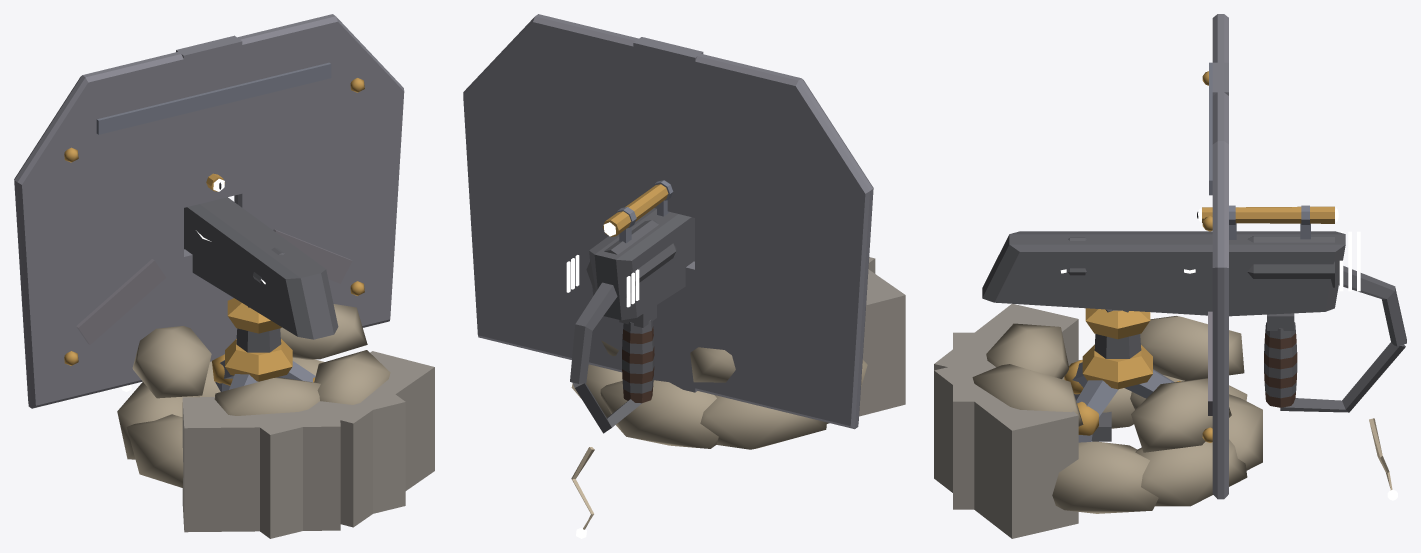
File: gun-emplacement.glb
3 renders of one model, left to right at view 1: azimuth 30°, elevation 25°; view 2: azimuth 150°, elevation 25°; view 3: azimuth 270°, elevation 25°, orthographic. The views are drawn at different scales.
Visible parts, largest first — view 1: gun-emplacement; view 2: gun-emplacement, pulse_breath, sway_sinew; view 3: gun-emplacement, pulse_breath.
Part boxes in pixels (x1,y1,x2,y2): gun-emplacement: [14, 14, 434, 538]; gun-emplacement: [463, 14, 905, 449]; pulse_breath: [566, 255, 639, 307]; sway_sinew: [571, 447, 594, 538]; gun-emplacement: [934, 14, 1406, 538]; pulse_breath: [1339, 231, 1360, 291].
Size of the model in its own units: 0.8554 by 0.8606 by 0.8714.
